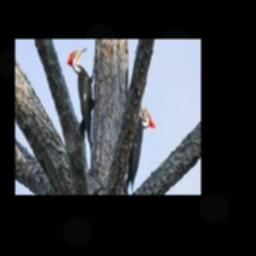Woodpecker: (67, 48, 96, 151), (126, 98, 156, 191)
